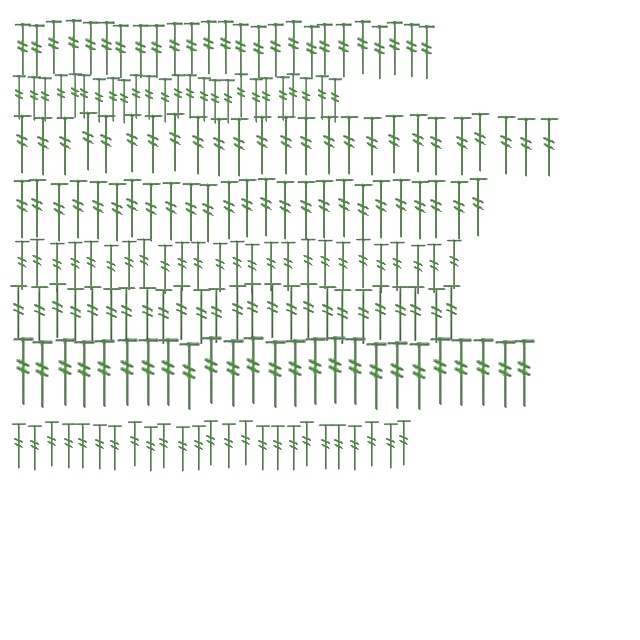fan: (11, 336, 35, 408), (92, 338, 116, 410), (221, 338, 245, 410), (283, 338, 307, 410), (303, 336, 327, 408), (343, 336, 367, 408), (385, 340, 409, 412), (428, 336, 452, 408), (512, 338, 536, 410), (30, 340, 54, 410), (53, 338, 77, 408), (72, 340, 96, 410), (115, 338, 139, 408), (136, 338, 160, 408), (156, 338, 180, 408), (177, 342, 201, 412), (199, 336, 223, 406), (241, 336, 265, 406), (263, 340, 287, 410), (323, 336, 347, 406), (364, 342, 388, 412), (407, 342, 431, 412), (449, 338, 473, 408), (471, 338, 495, 408), (493, 340, 517, 410), (32, 114, 56, 180), (54, 114, 78, 180), (142, 112, 166, 178), (164, 110, 188, 176), (26, 176, 50, 242), (48, 180, 72, 246), (106, 180, 130, 246), (140, 180, 164, 246), (180, 180, 204, 246), (218, 178, 242, 244), (236, 176, 260, 242), (274, 178, 298, 244), (390, 176, 414, 242), (448, 178, 472, 244), (208, 116, 232, 180), (228, 116, 252, 180), (318, 114, 342, 178), (338, 114, 362, 178), (538, 116, 562, 180), (160, 180, 184, 244), (352, 182, 376, 246), (370, 178, 394, 242), (12, 112, 34, 178), (96, 112, 118, 178), (296, 114, 318, 180), (362, 114, 384, 180), (384, 112, 406, 178), (426, 114, 448, 180), (452, 114, 474, 180), (470, 110, 492, 176), (88, 178, 110, 244), (122, 176, 144, 242), (296, 178, 318, 244), (334, 176, 356, 242), (410, 178, 432, 244), (78, 110, 100, 174), (122, 112, 144, 176), (188, 114, 210, 178), (252, 114, 274, 178), (276, 114, 298, 178), (408, 112, 430, 176), (496, 114, 518, 178), (516, 116, 538, 180), (12, 178, 34, 242), (68, 178, 90, 242), (198, 182, 220, 246), (256, 176, 278, 240), (314, 178, 336, 242), (426, 178, 448, 242), (468, 176, 490, 240), (29, 284, 51, 344), (65, 286, 87, 346), (82, 284, 104, 344), (101, 286, 123, 346), (206, 286, 228, 346), (317, 284, 339, 344), (390, 284, 412, 344), (405, 284, 427, 344), (426, 286, 448, 346), (8, 284, 30, 342), (47, 282, 69, 340), (116, 286, 138, 344), (137, 286, 159, 344), (153, 288, 175, 346), (171, 284, 193, 342), (191, 288, 213, 346), (227, 284, 249, 342), (242, 282, 264, 340), (262, 282, 284, 340), (281, 284, 303, 342), (298, 282, 320, 340), (332, 288, 354, 346), (353, 288, 375, 346), (370, 284, 392, 342), (441, 284, 463, 342), (64, 18, 84, 76), (266, 22, 286, 80), (302, 24, 322, 82), (334, 22, 354, 80), (370, 24, 390, 82), (402, 22, 422, 80), (44, 20, 64, 76), (182, 22, 202, 78), (216, 20, 236, 76), (284, 20, 304, 76), (28, 236, 48, 292), (48, 240, 68, 296), (82, 238, 102, 294), (102, 242, 122, 298), (120, 238, 140, 294), (156, 242, 176, 298), (228, 238, 248, 294), (354, 236, 374, 292), (66, 240, 86, 294), (262, 240, 282, 294), (316, 238, 336, 292), (334, 240, 354, 294), (372, 242, 392, 296), (388, 240, 408, 294), (14, 22, 32, 80), (82, 20, 100, 78), (98, 20, 116, 78), (232, 22, 250, 80), (250, 24, 268, 82), (316, 22, 334, 80), (386, 20, 404, 78), (418, 24, 436, 82), (28, 24, 46, 80), (112, 24, 130, 80), (132, 24, 150, 80), (148, 24, 166, 80), (166, 22, 184, 78), (200, 20, 218, 76), (354, 20, 372, 76), (14, 238, 32, 294), (136, 236, 154, 292), (212, 240, 230, 296), (300, 236, 318, 292), (410, 242, 428, 298), (174, 240, 192, 294), (190, 240, 208, 294), (244, 242, 262, 296), (280, 240, 298, 294), (426, 242, 444, 296), (446, 238, 464, 292), (10, 421, 28, 471), (26, 423, 44, 473), (43, 419, 61, 469), (60, 421, 78, 471), (74, 421, 92, 471), (91, 422, 109, 472), (106, 423, 124, 473), (126, 419, 144, 469), (142, 424, 160, 474), (155, 421, 173, 471), (174, 424, 192, 474), (190, 423, 208, 473), (202, 418, 220, 468), (220, 421, 238, 471), (237, 418, 255, 468), (254, 423, 272, 473), (269, 423, 287, 473), (285, 423, 303, 473), (298, 419, 316, 469), (317, 422, 335, 472), (330, 422, 348, 472), (346, 423, 364, 473), (363, 419, 381, 469), (382, 421, 400, 471), (395, 418, 413, 468), (11, 74, 27, 122), (37, 76, 53, 124), (67, 72, 83, 120), (105, 76, 121, 124), (116, 78, 132, 126), (141, 74, 157, 122), (196, 76, 212, 124), (207, 78, 223, 126), (220, 78, 236, 126), (233, 72, 249, 120), (258, 76, 274, 124), (285, 72, 301, 120), (298, 76, 314, 124), (314, 74, 330, 122), (26, 76, 42, 122), (53, 74, 69, 120), (76, 74, 92, 120), (91, 78, 107, 124), (128, 74, 144, 120), (157, 78, 173, 124), (170, 74, 186, 120), (182, 74, 198, 120), (248, 78, 264, 124), (275, 76, 291, 122), (327, 78, 343, 124)
